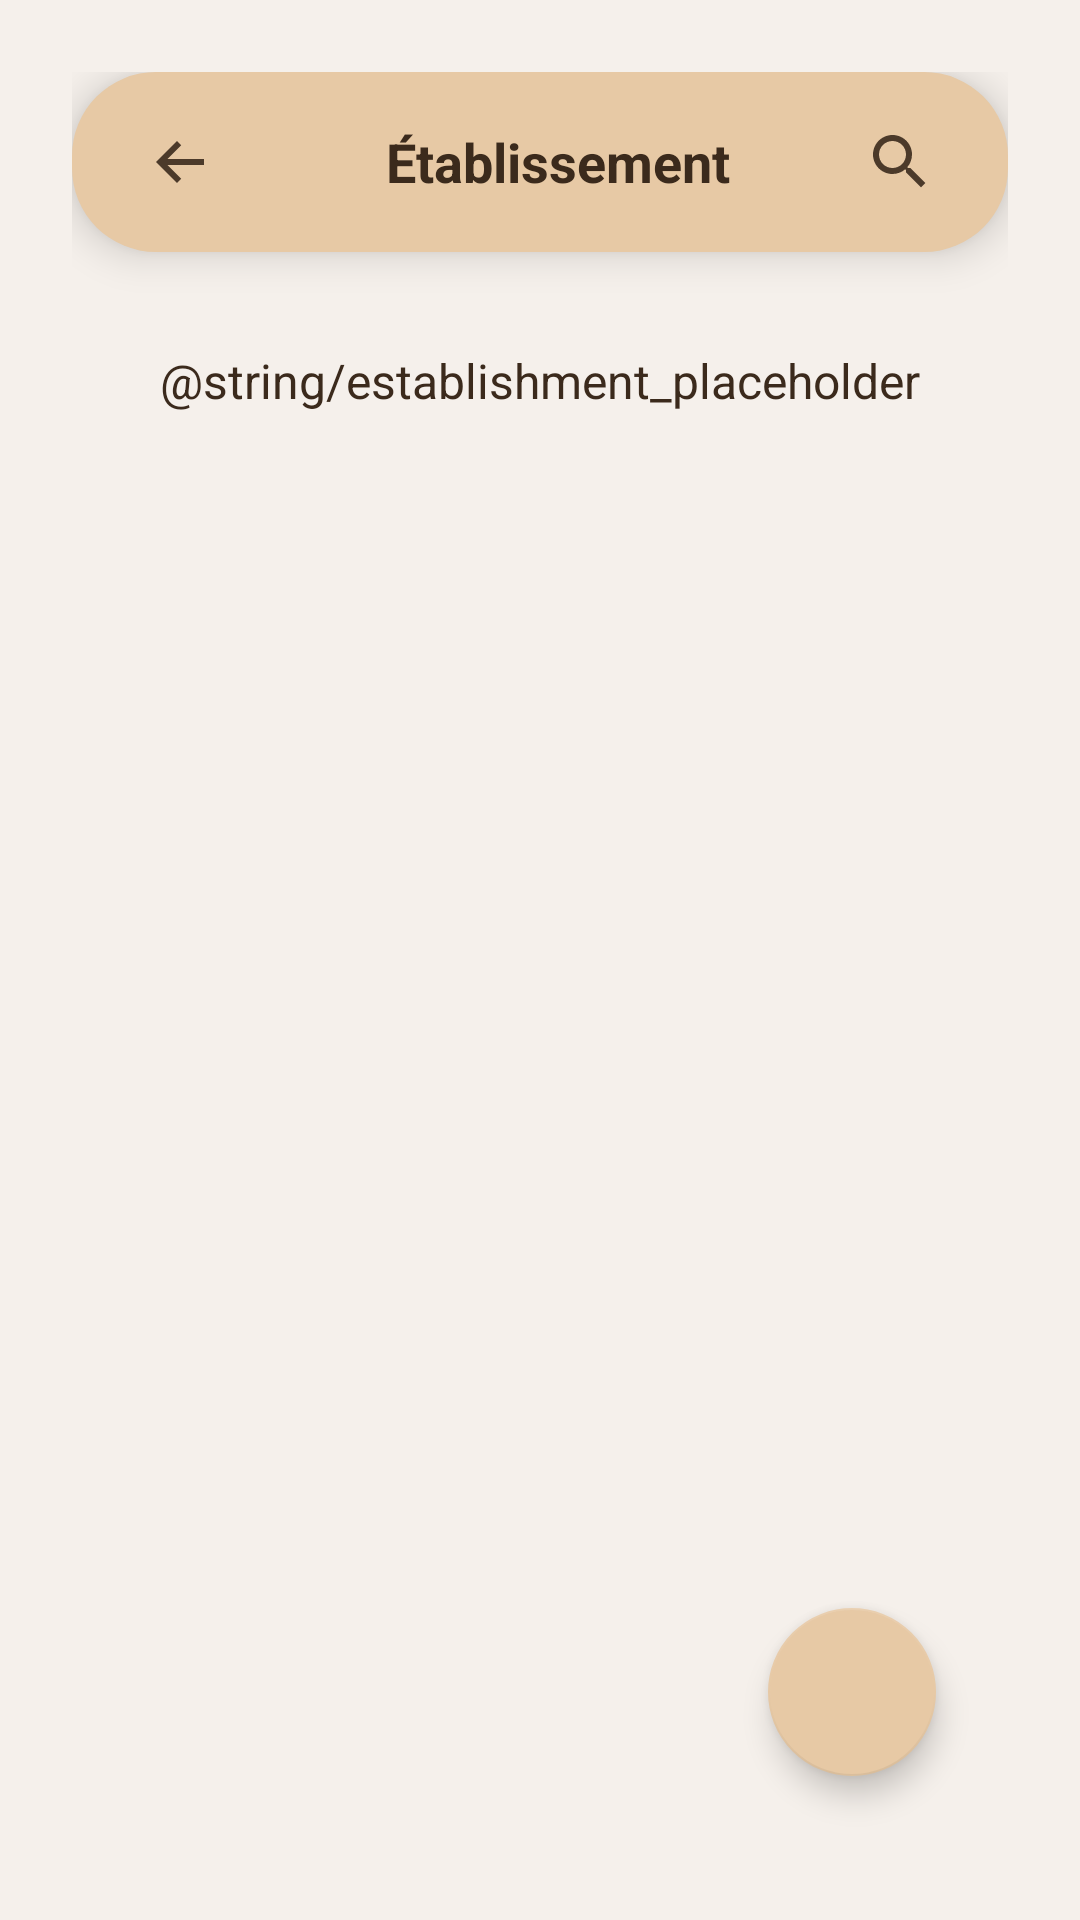

Named icons in this screenshot (1080px×1920px) and their bounding boxes, bbox=[x1, y1, x2, y2]:
Rechercher: bbox=[873, 135, 925, 187]
Retour: bbox=[156, 141, 204, 183]
